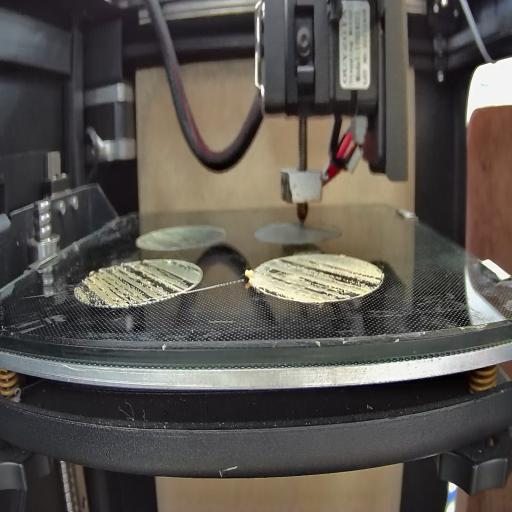under_extrusion: (260, 255, 384, 299), (79, 261, 199, 305)
